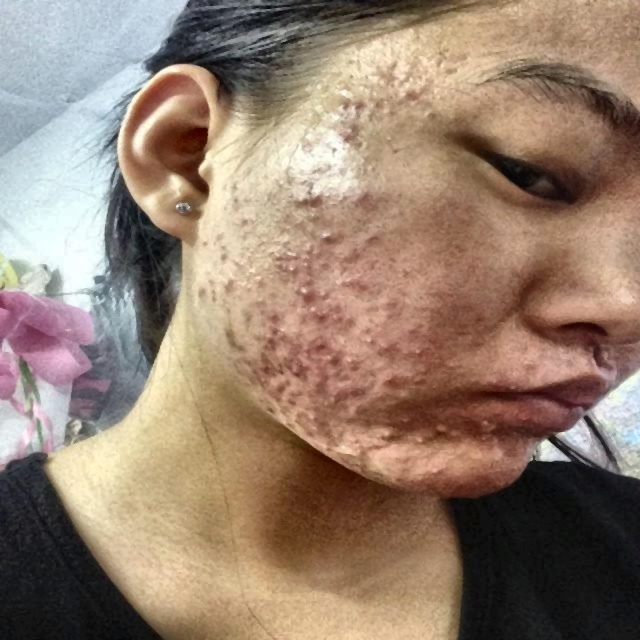nodule: (411, 338, 449, 372), (481, 417, 511, 448), (295, 186, 325, 216), (374, 422, 404, 448), (258, 308, 290, 332), (292, 334, 322, 359), (330, 391, 360, 415), (432, 417, 460, 442), (373, 370, 402, 393), (288, 351, 307, 384), (302, 405, 324, 432), (248, 347, 290, 361), (325, 356, 354, 376), (352, 444, 379, 464), (254, 358, 276, 382), (271, 382, 292, 407), (498, 379, 532, 394), (479, 446, 513, 461), (318, 439, 341, 461), (429, 460, 456, 478), (372, 335, 394, 357), (320, 222, 337, 249), (290, 285, 310, 307), (262, 326, 278, 350), (320, 300, 340, 319), (406, 429, 420, 448)
